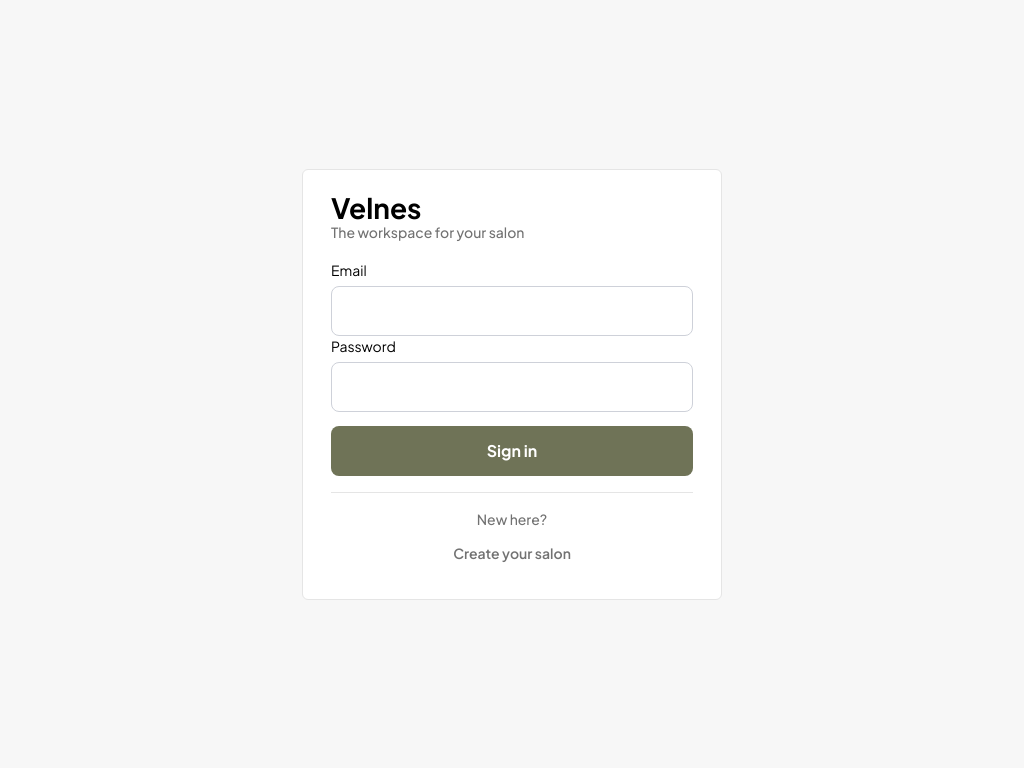
it: workspace shell › logs in and shows the permission-gated navigation
Type "maria@velnes.mk" into the field labelled "Email".
click(512, 310); type("maria@velnes.mk")  # box top-left (331, 286), bottom-right (693, 336)
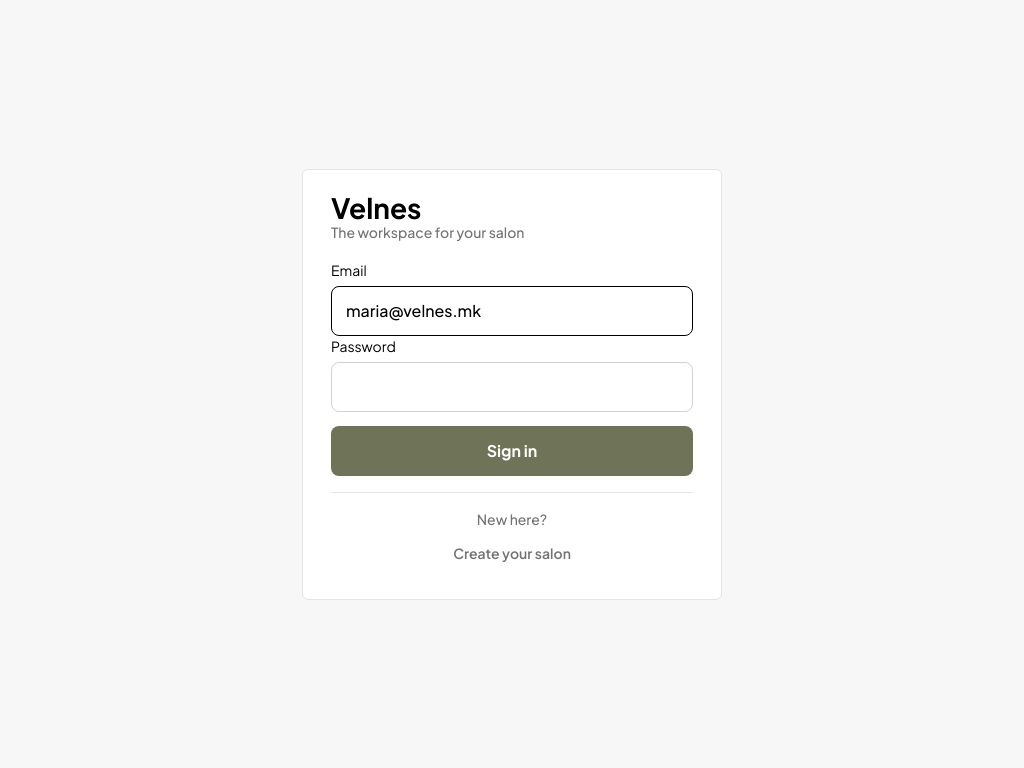
Type "velnes-demo" into the password field labelled "Password".
click(512, 386); type("velnes-demo")  # box top-left (331, 362), bottom-right (693, 412)
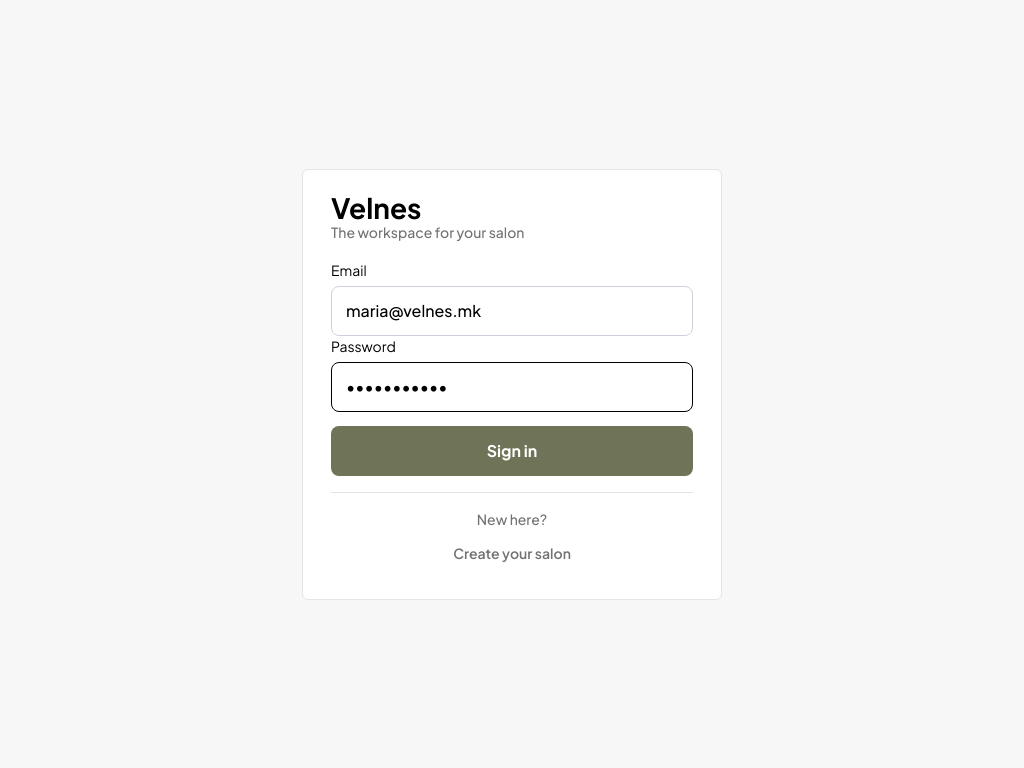
Click the button "Sign in".
click(512, 450)  # box top-left (331, 426), bottom-right (693, 476)
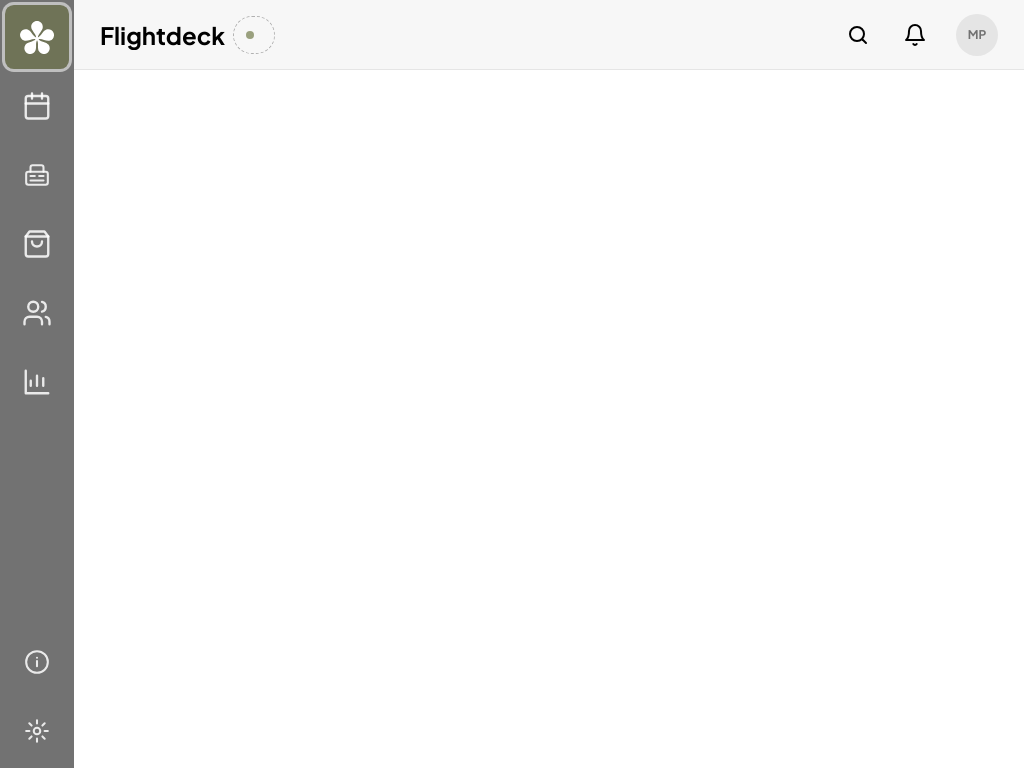
Check: the button titled "Maria Petrovska" is shown, box top-left (956, 14), bottom-right (998, 56)
Check: the button named "Settings" is shown, box top-left (5, 699), bottom-right (69, 763)
Check: the button named "Cash register" is shown, box top-left (5, 143), bottom-right (69, 207)
